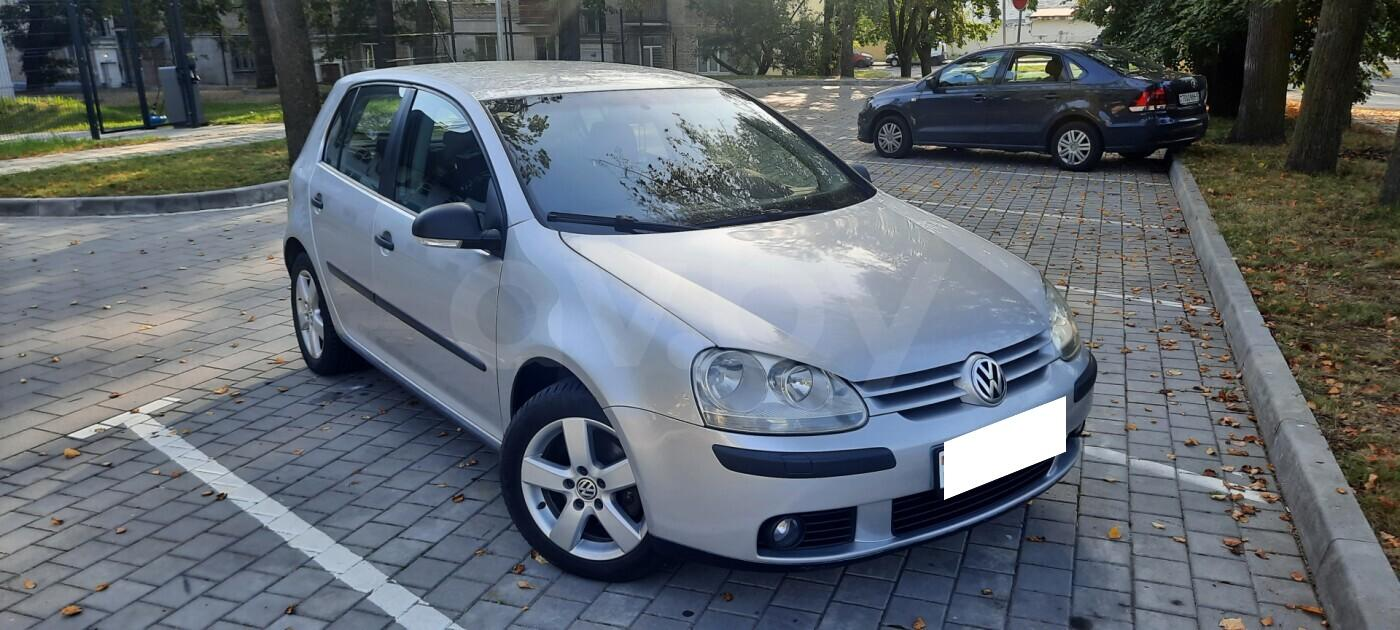Golf_2003-2009: (285, 50, 1103, 576)
